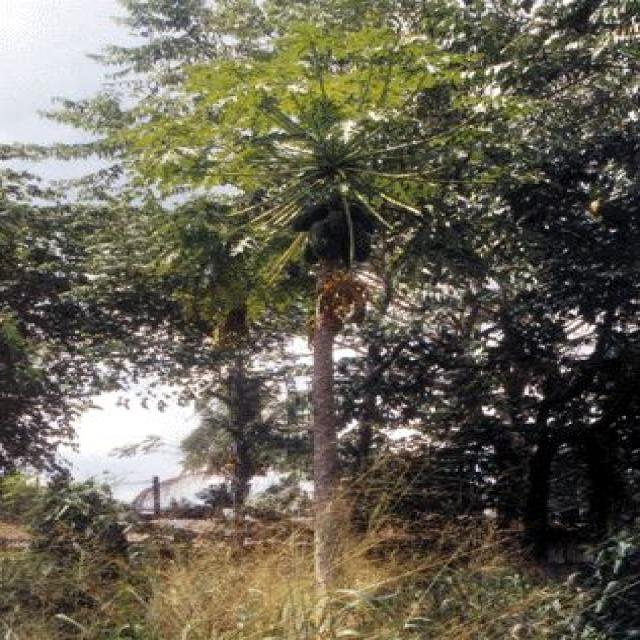Papaya-Tree: (100, 31, 530, 608)
